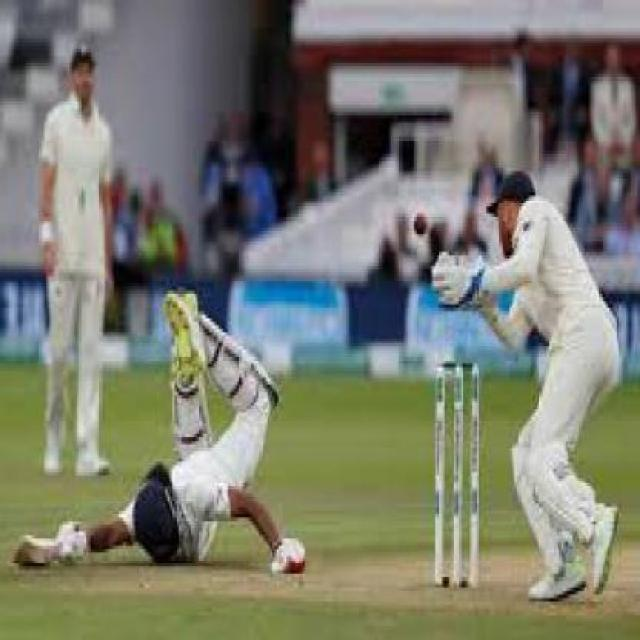ball: (388, 193, 448, 256)
